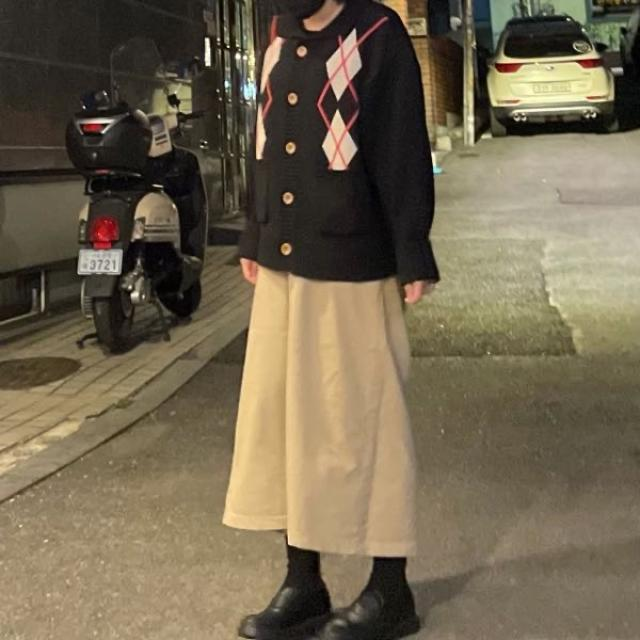cardigan: (242, 0, 439, 283)
skirt: (220, 247, 418, 559)
